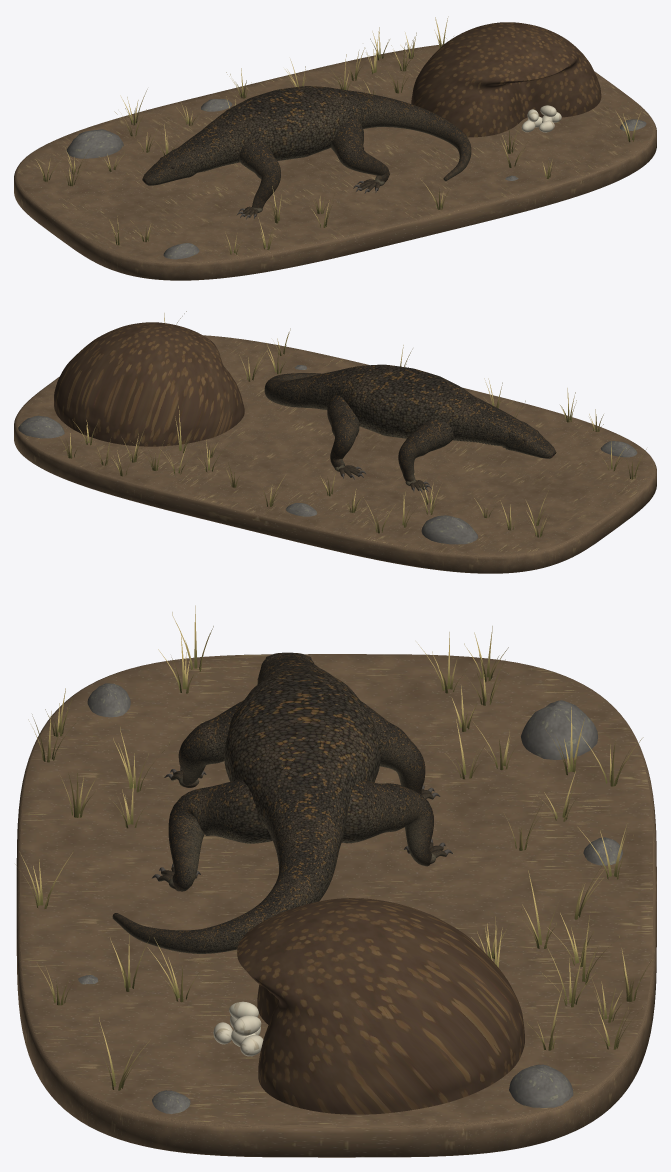
File: komodo.glb
3 views of the same model, one above another, from view 1: azimuth 30°, elevation 25°; view 2: azimuth 150°, elevation 25°; view 3: azimuth 270°, elevation 25° (orthographic). The views are drawn at different scales.
Visible parts, largest first — view 1: Alas, Tubuh, Sarang, Kepala, Telur; view 2: Alas, Sarang, Tubuh, Kepala; view 3: Alas, Sarang, Tubuh, Telur.
Boxes of the visible parts, left/top/right/bottom form: Alas: left=14, top=16, right=656, bottom=280; Tubuh: left=177, top=86, right=471, bottom=219; Sarang: left=411, top=22, right=601, bottom=137; Kepala: left=142, top=148, right=191, bottom=184; Telur: left=521, top=105, right=561, bottom=132; Alas: left=14, top=311, right=656, bottom=573; Sarang: left=54, top=322, right=244, bottom=446; Tubuh: left=264, top=364, right=520, bottom=492; Kepala: left=508, top=421, right=556, bottom=456; Alas: left=15, top=605, right=656, bottom=1157; Sarang: left=237, top=898, right=524, bottom=1114; Tubuh: left=112, top=655, right=452, bottom=953; Telur: left=213, top=1001, right=263, bottom=1056.
Size of the model in its own units: 3.28 by 0.5267 by 1.87.
Materials: 11 (9 with a texture image).
